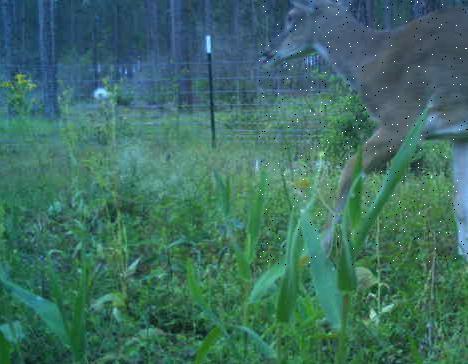Deer: (259, 0, 468, 265)
